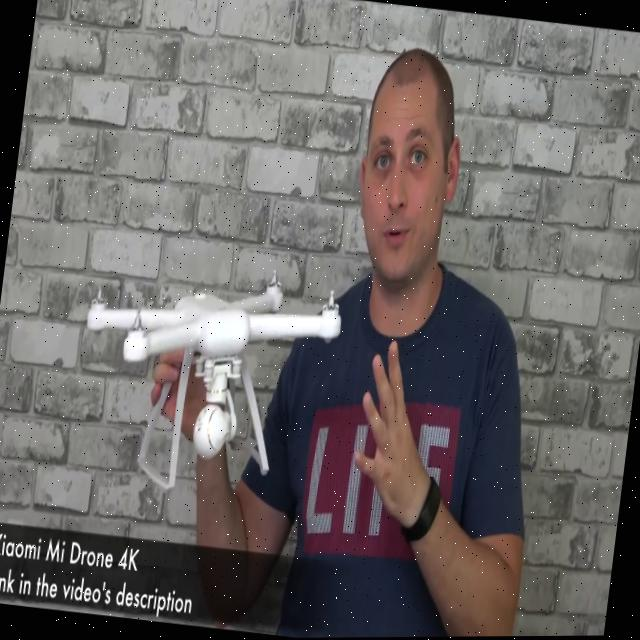drone: (64, 246, 362, 509)
